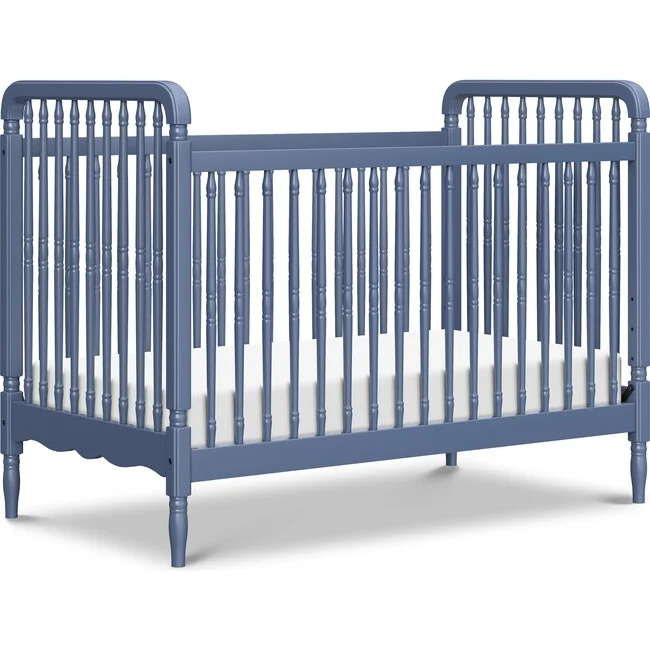crib: (0, 81, 649, 565)
